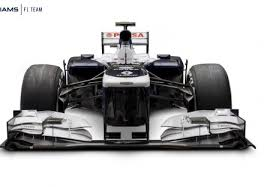f1_car: (1, 18, 262, 157)
